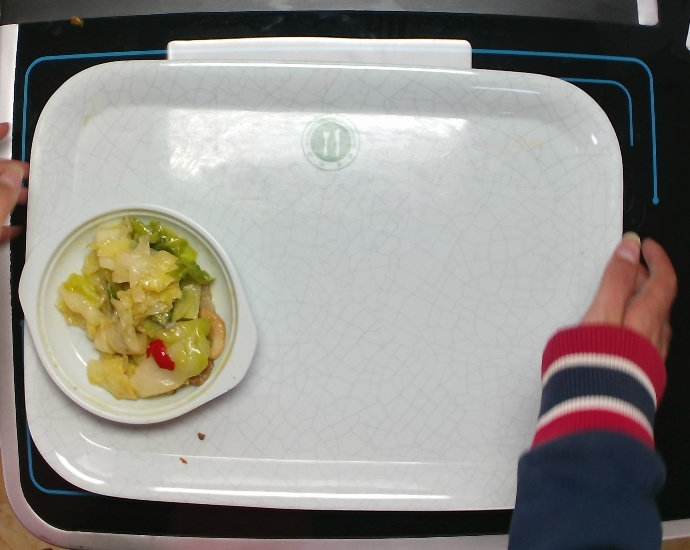JYsf-Shuang_Er_Pan: (11, 195, 260, 425)
